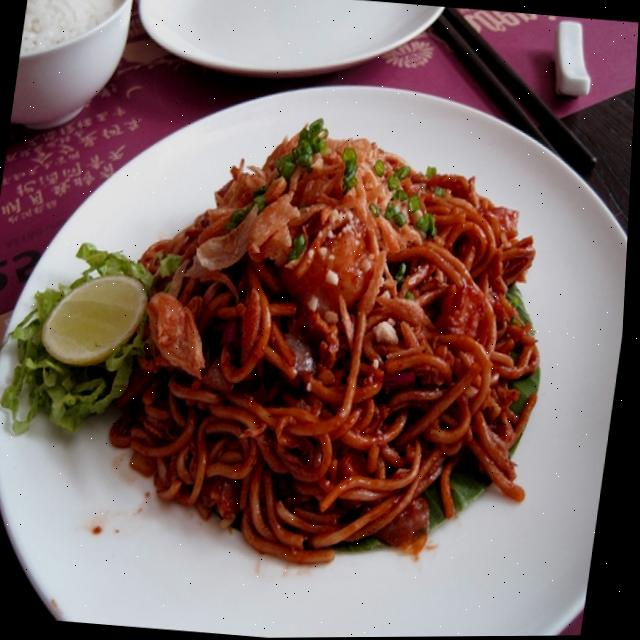面条主食: (0, 42, 619, 626)
